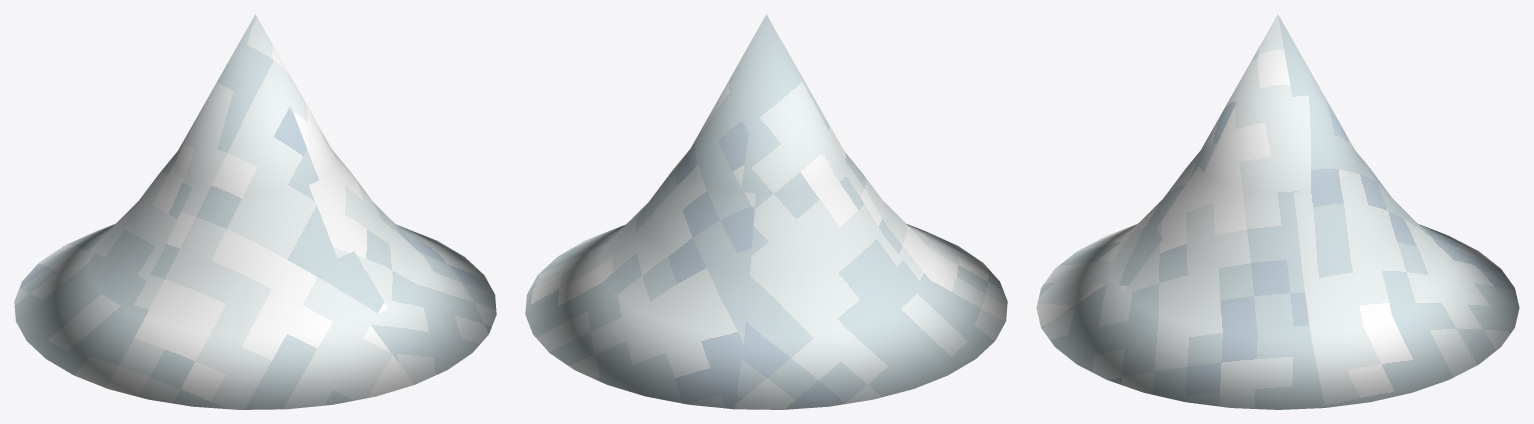
The model's file is mountain.gltf.
3 views of the same model, side by side, from view 1: azimuth 30°, elevation 25°; view 2: azimuth 150°, elevation 25°; view 3: azimuth 270°, elevation 25° (orthographic).
Visible parts, largest first — view 1: Cone; view 2: Cone; view 3: Cone.
Part boxes in pixels (left/top/right/bottom): Cone: left=14, top=14, right=496, bottom=409; Cone: left=525, top=14, right=1007, bottom=409; Cone: left=1036, top=14, right=1519, bottom=409.
Bounding box in the file's own units: 21.84 × 14.66 × 21.84.
Materials: 1 (1 with a texture image).
